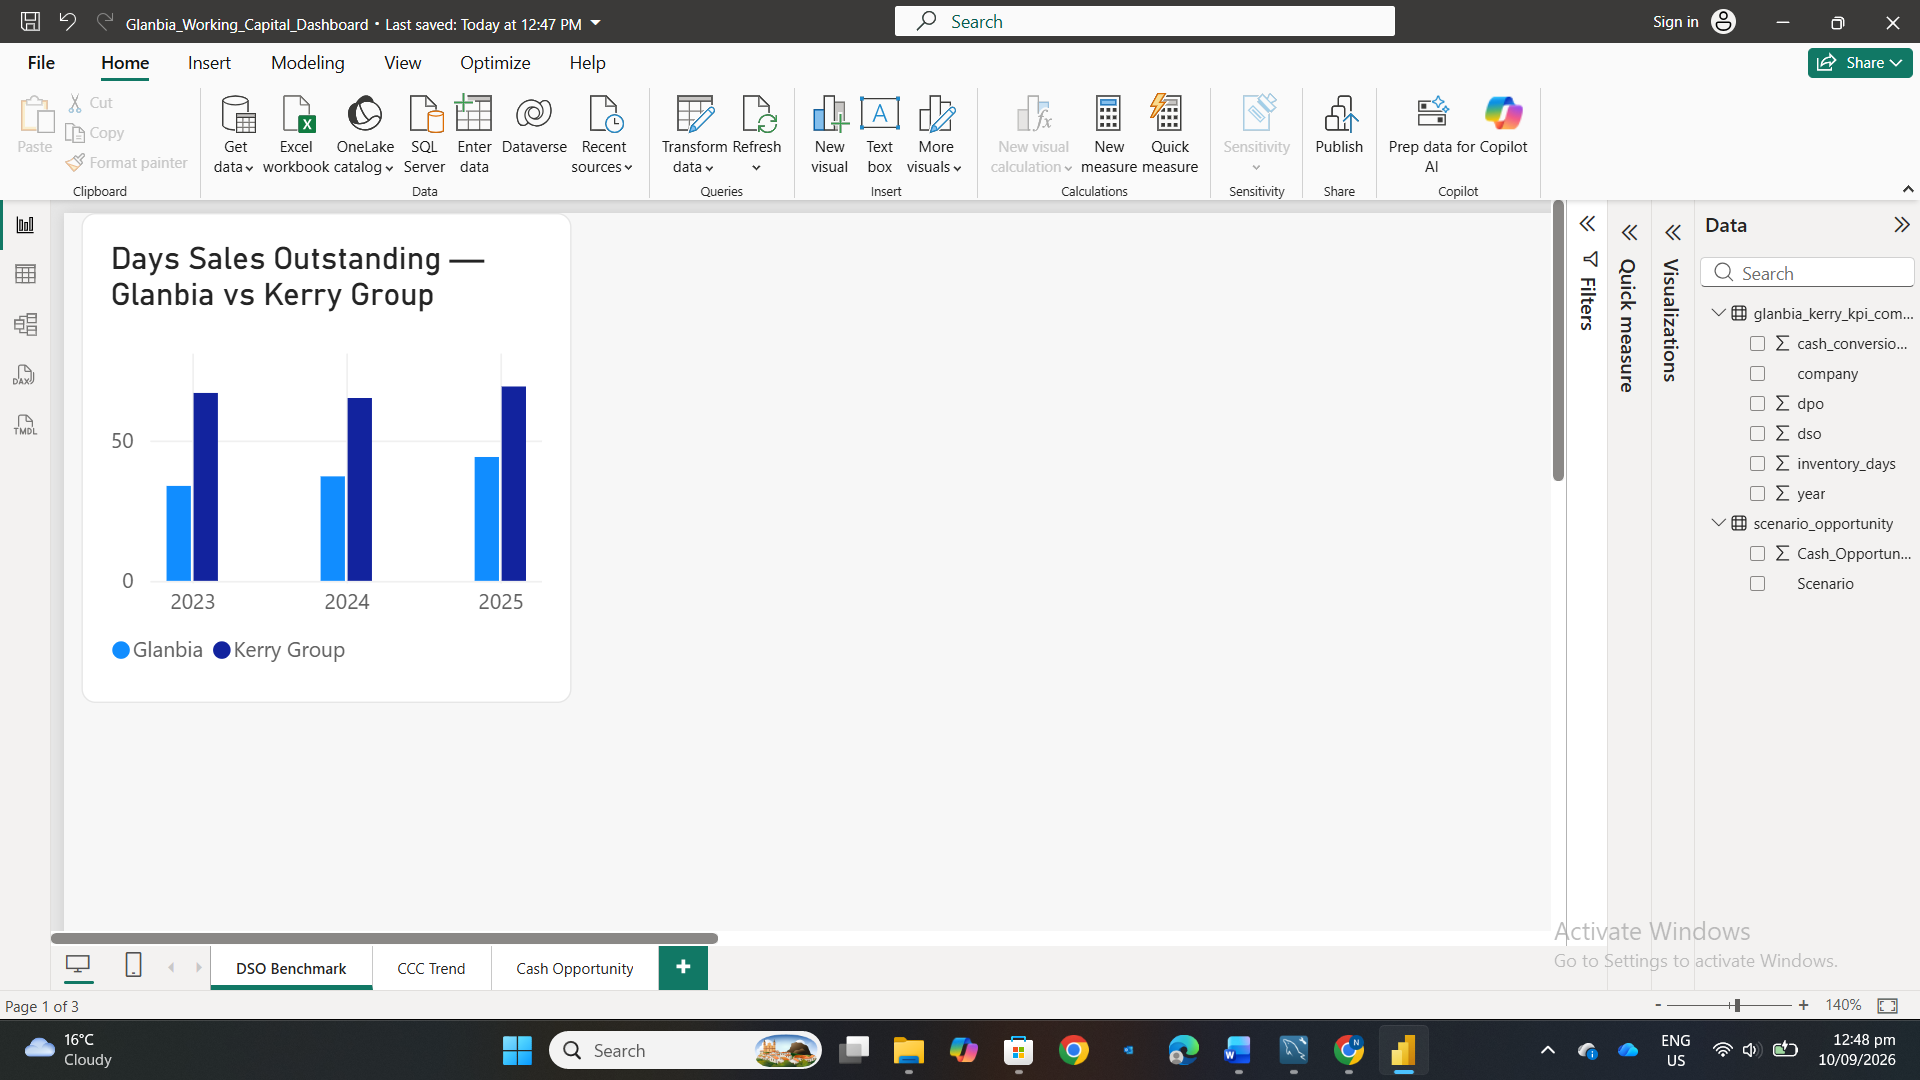

The dashboard page shown, as its layout file describes it:
{"tool":"powerbi","page":{"name":"DSO Benchmark","canvas":[1920,1080],"ordinal":0},"visuals":[{"type":"clusteredColumnChart","title":"Days Sales Outstanding — Glanbia vs Kerry Group","fields":{"Category":["glanbia_kerry_kpi_comparison.year"],"Series":["glanbia_kerry_kpi_comparison.company"],"Y":["Sum(glanbia_kerry_kpi_comparison.dso)"]},"box":[10,0,280,280],"z":0}]}

Visuals, with their boxes on the page's 1920x1080 design canvas (x1, y1, x2, y2). These are canvas units, not pixel positions in the 1920x1080 screenshot, which may show the page scaled, cropped or inside an application window:
"Days Sales Outstanding — Glanbia vs Kerry Group" clusteredColumnChart: BBox(10, 0, 290, 280)
